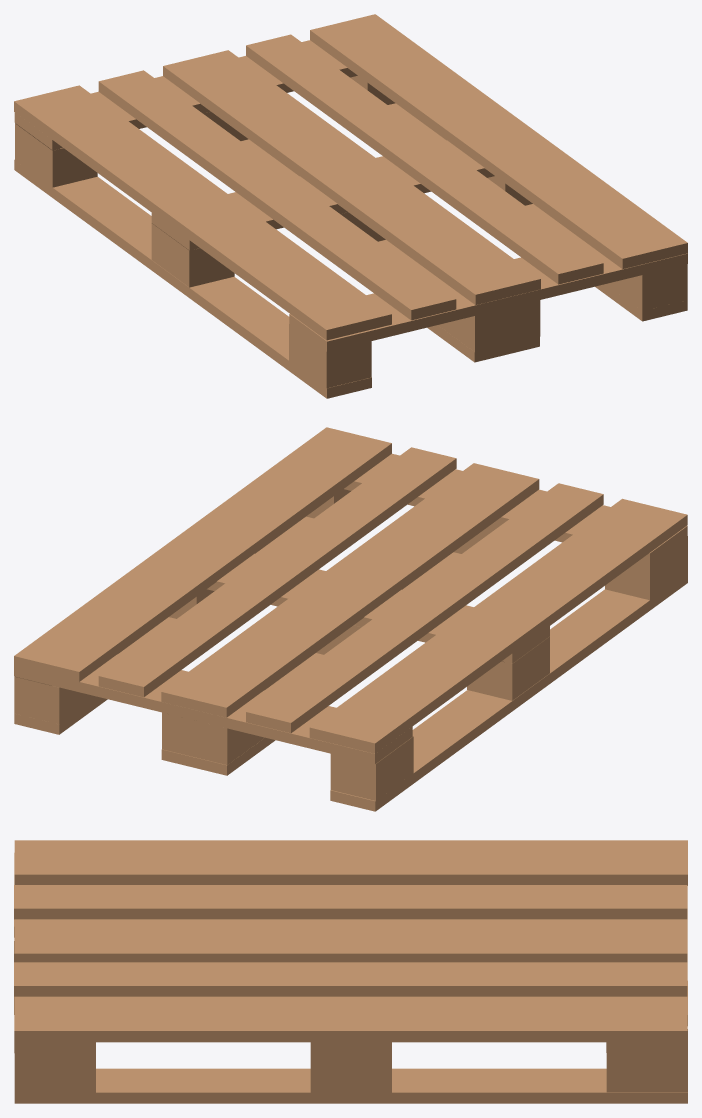
The model's file is palette.fbx.
The picture shows the model from 3 angles, top to bottom: view 1: azimuth 30°, elevation 25°; view 2: azimuth 150°, elevation 25°; view 3: azimuth 270°, elevation 25°; orthographic projection. The views are drawn at different scales.
Visible parts, largest first — view 1: GEO_Palett; view 2: GEO_Palett; view 3: GEO_Palett.
Boxes of the visible parts, box(x1,y1,x2,y2) form: GEO_Palett: box(14, 14, 687, 398); GEO_Palett: box(14, 427, 687, 811); GEO_Palett: box(14, 840, 687, 1103).
Bounding box in the file's own units: 1.23 × 0.2228 × 1.84.
